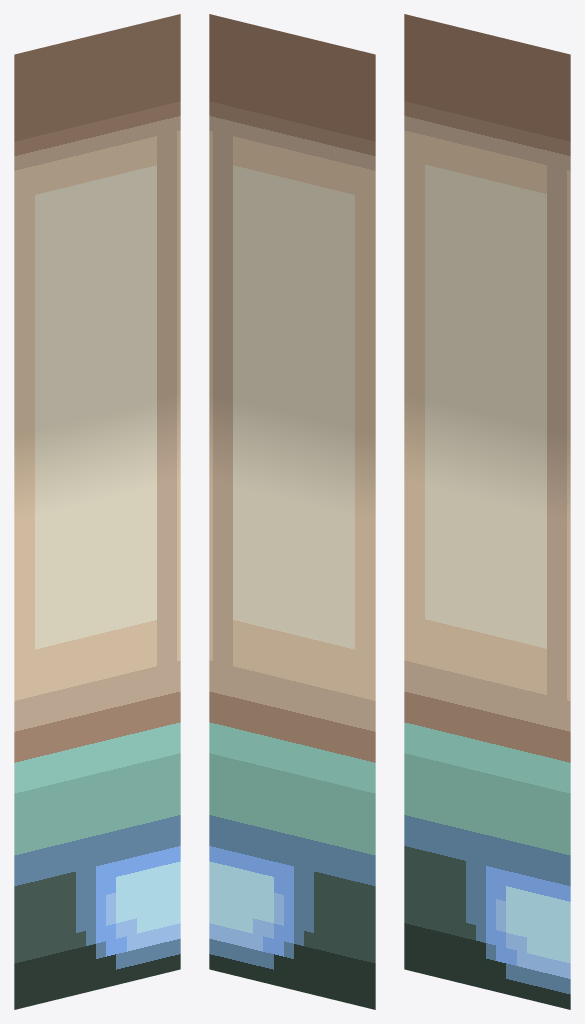
The picture shows the model from 3 angles, left to right: view 1: azimuth 30°, elevation 25°; view 2: azimuth 150°, elevation 25°; view 3: azimuth 330°, elevation 25°; orthographic projection.
Size of the model in its own units: 1 by 5.5 by 0.
Materials: 1 (1 with a texture image).
